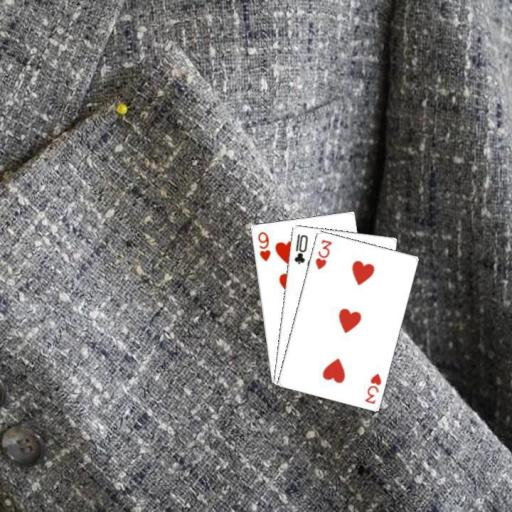10C: (291, 231, 309, 266)
3H: (361, 370, 383, 405), (312, 236, 333, 271)
9H: (254, 229, 272, 263)
